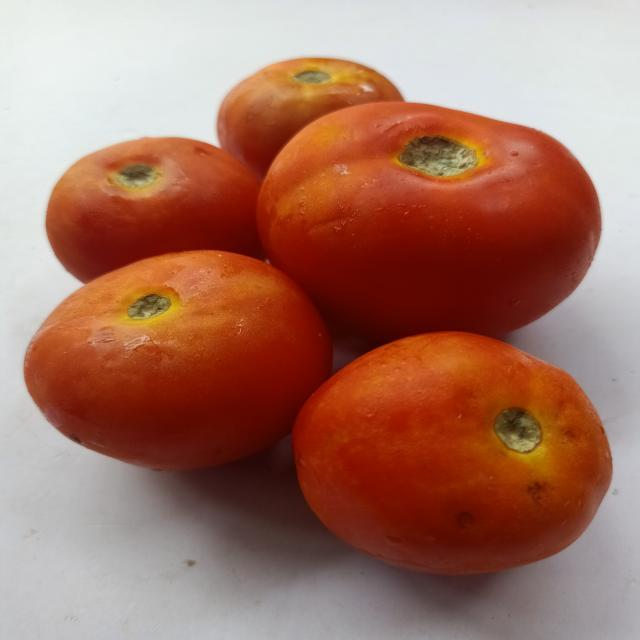Tomato: (277, 330, 625, 586), (256, 95, 606, 346), (16, 245, 336, 484), (43, 133, 266, 287), (217, 54, 408, 169)
